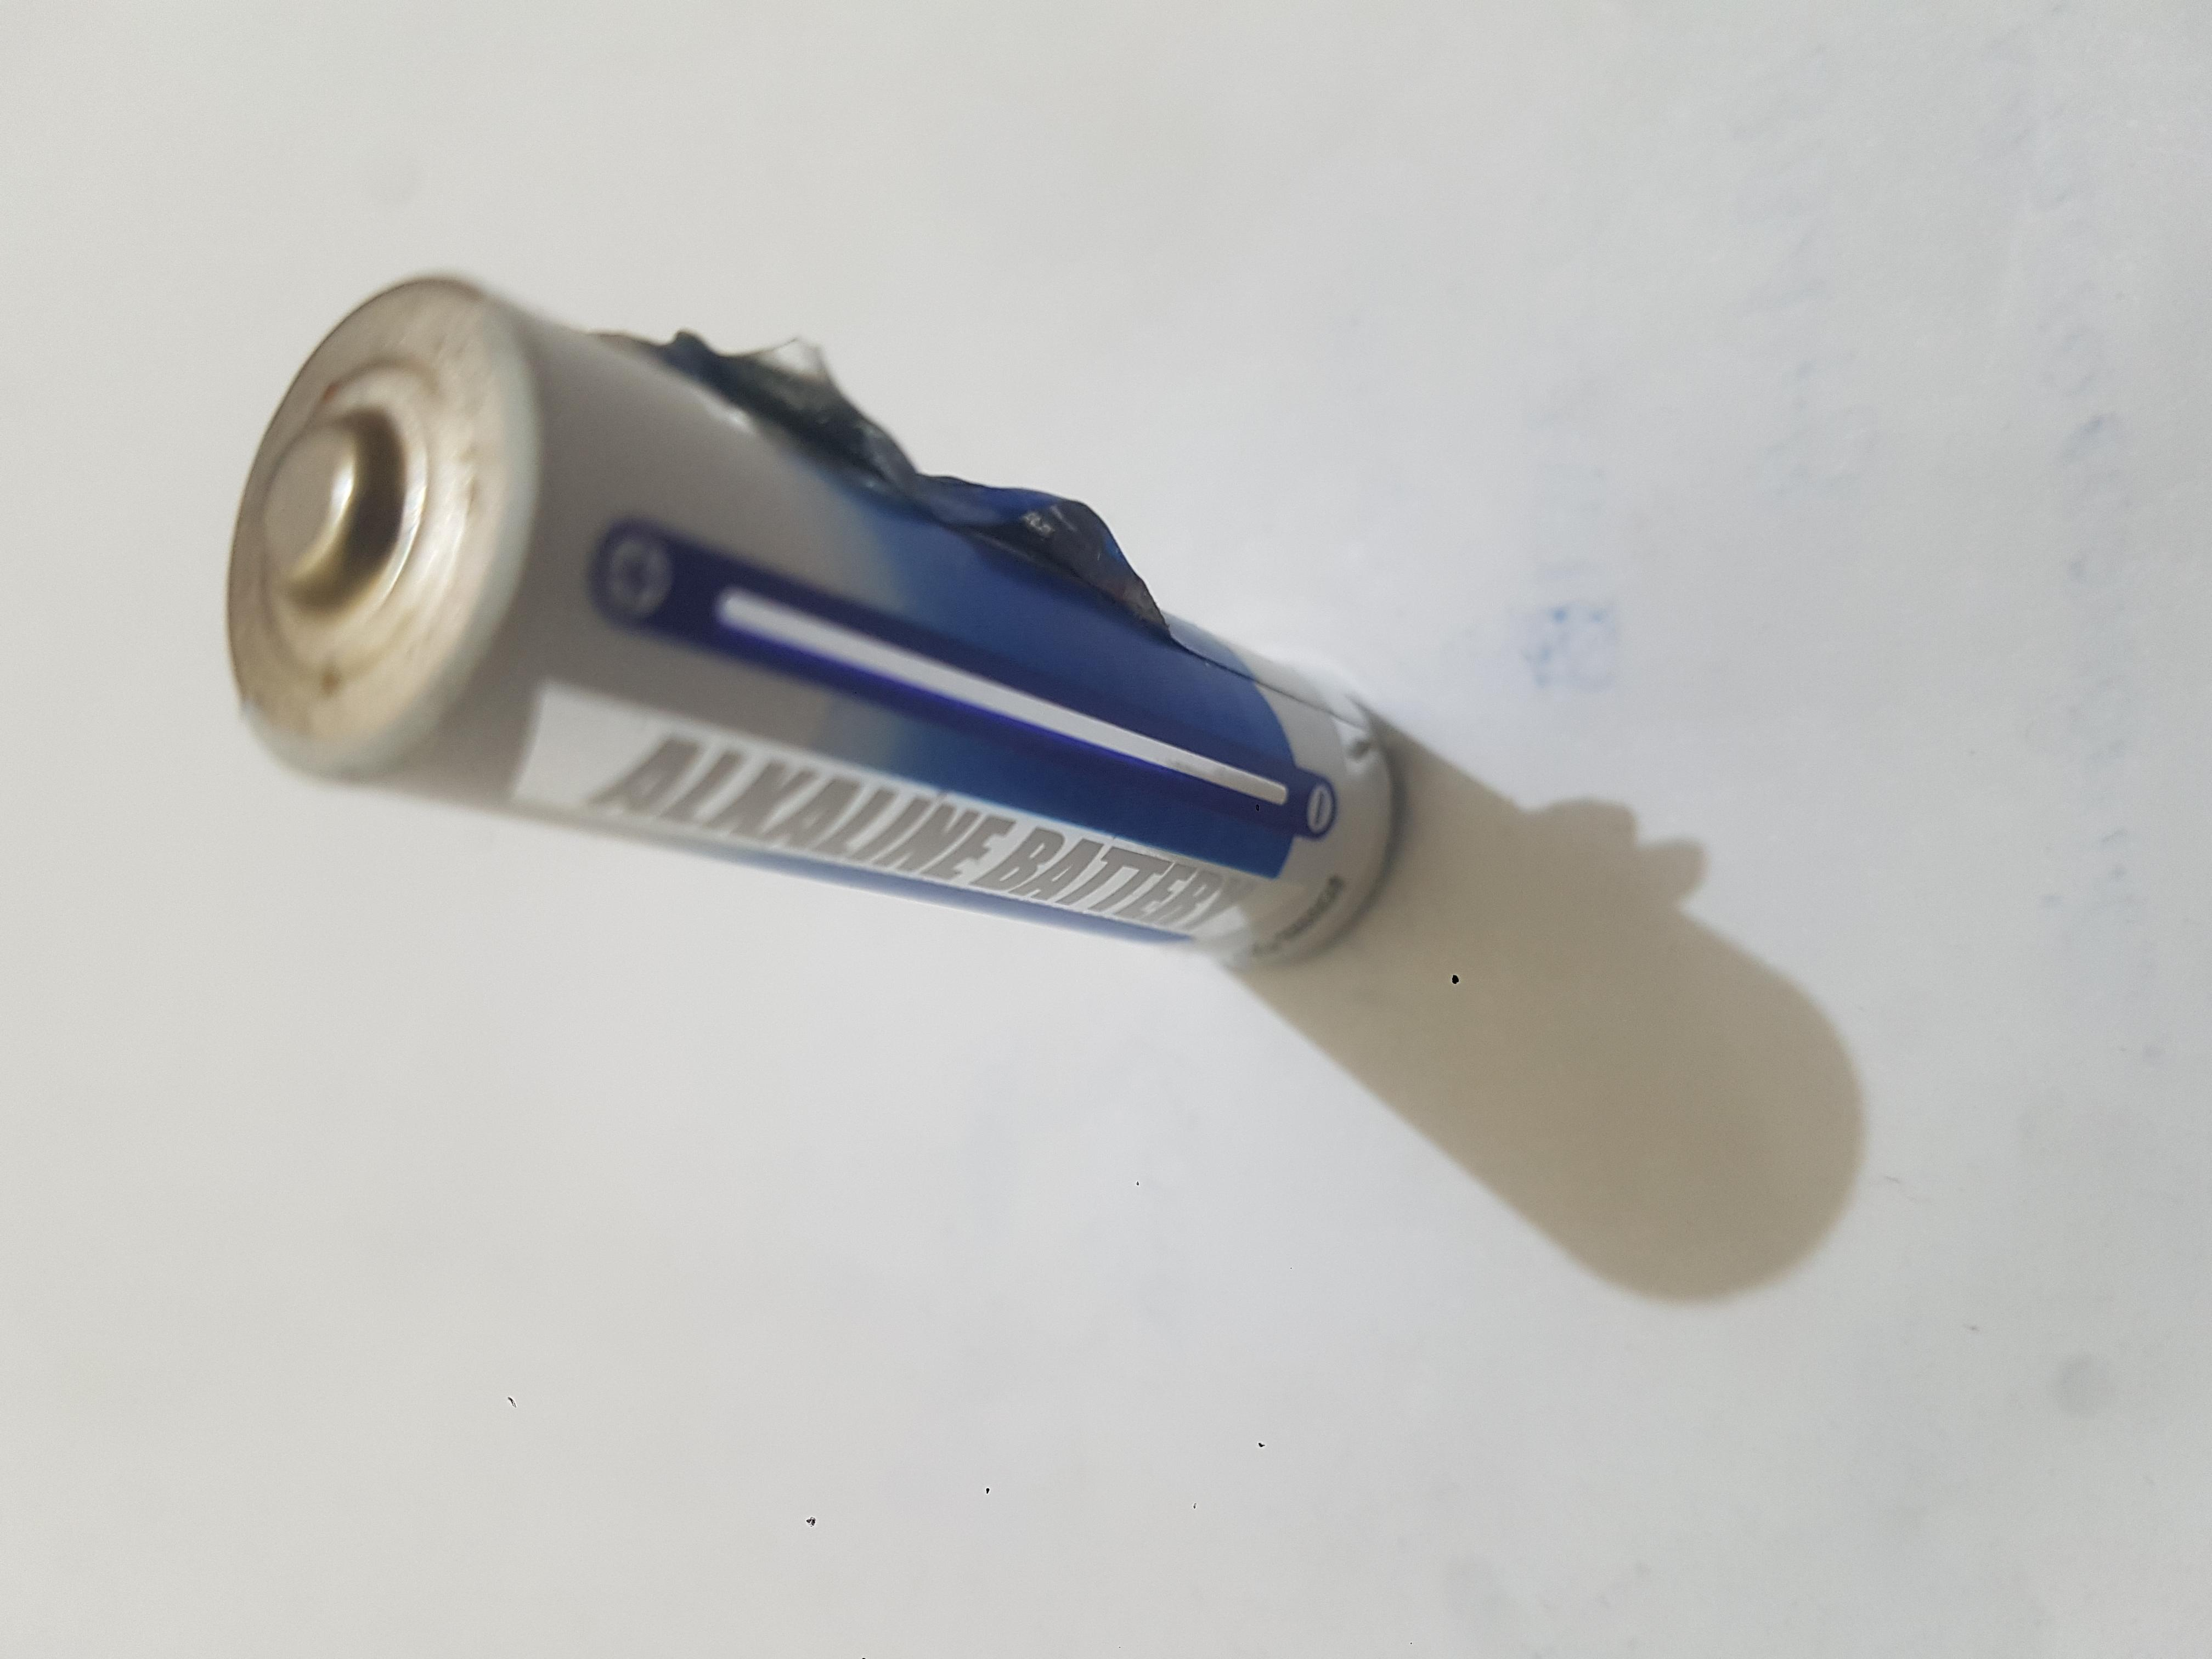battery: (900, 157, 1860, 1077)
